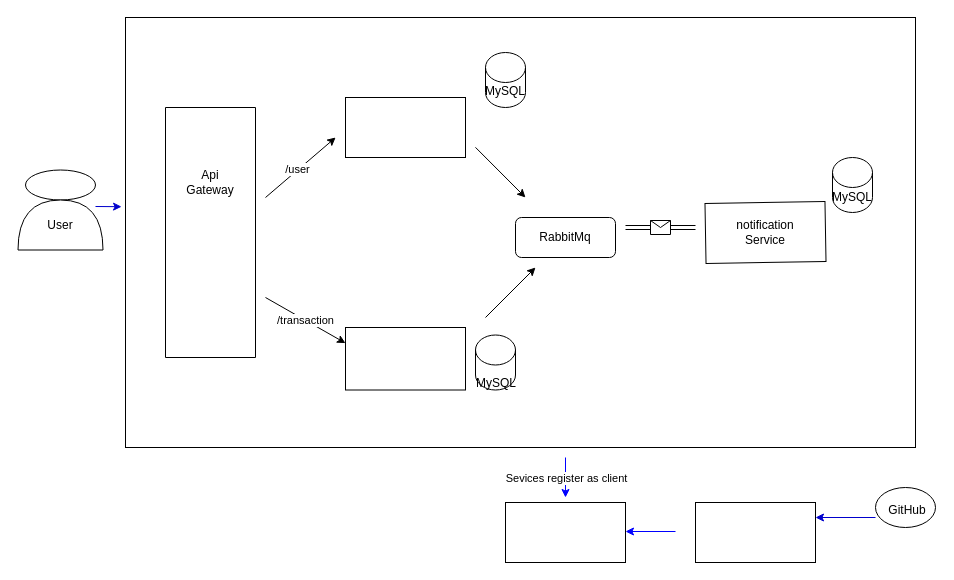
Image size: 954x580. Some labels were removed from this diagram. Each missing label, with the box of its shape:
Config Server: (694, 502, 816, 562)
Eureka Server: (504, 502, 626, 562)
Transaction Service: (344, 326, 466, 390)
User Service: (344, 96, 466, 158)
